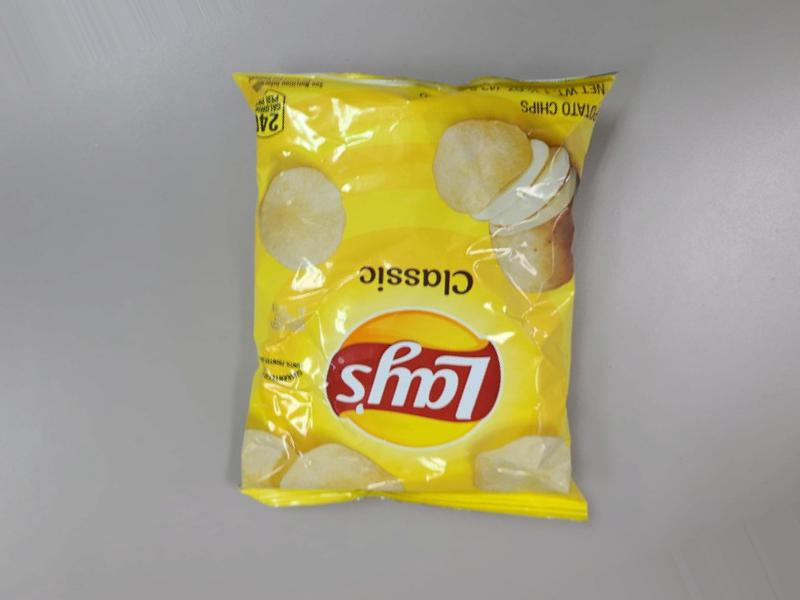lays: (251, 86, 667, 589)
